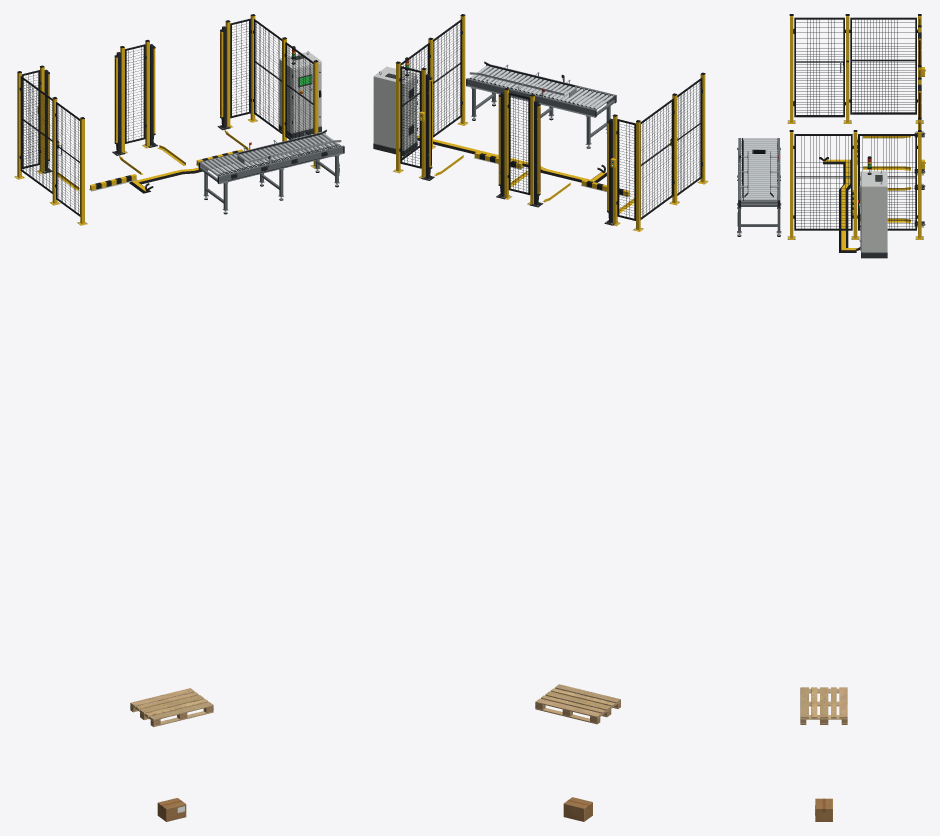
File: cell_palletise.glb
3 renders of one model, left to right at view 1: azimuth 30°, elevation 25°; view 2: azimuth 150°, elevation 25°; view 3: azimuth 270°, elevation 25°, orthographic. The views are drawn at different scales.
Visible parts, largest first — view 1: fence, conveyor, controller, pallet_eur, stations; view 2: fence, controller, conveyor, pallet_eur, stations; view 3: fence, controller, stations, pallet_eur, conveyor, case.
Boxes of the visible parts, bbox=[...] form: fence: bbox=[14, 14, 320, 225]; conveyor: bbox=[198, 129, 344, 214]; controller: bbox=[279, 46, 321, 138]; pallet_eur: bbox=[130, 688, 213, 726]; stations: bbox=[57, 129, 309, 193]; fence: bbox=[393, 14, 708, 231]; controller: bbox=[373, 57, 417, 156]; conveyor: bbox=[466, 61, 616, 148]; pallet_eur: bbox=[535, 684, 620, 724]; stations: bbox=[417, 135, 634, 213]; fence: bbox=[787, 14, 925, 239]; controller: bbox=[858, 156, 887, 258]; stations: bbox=[819, 136, 910, 252]; pallet_eur: bbox=[800, 687, 847, 724]; conveyor: bbox=[737, 138, 781, 236]; case: bbox=[815, 798, 832, 821].
Size of the model in its own units: 5.52 by 14.01 by 3.2.
34 materials, 2 textured.
